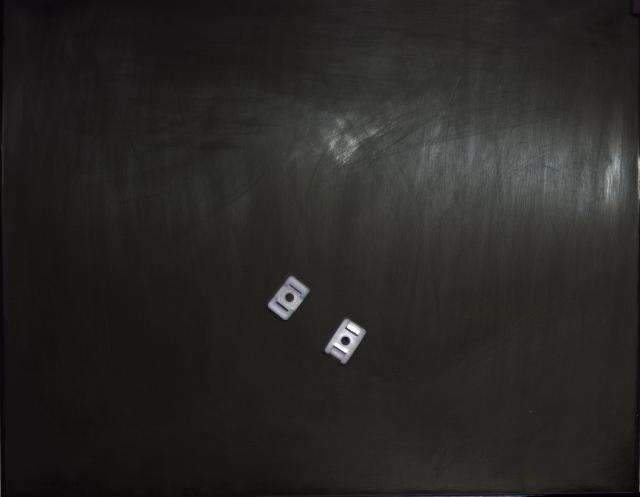first_side: (268, 276, 310, 320)
second_side: (325, 319, 366, 365)
